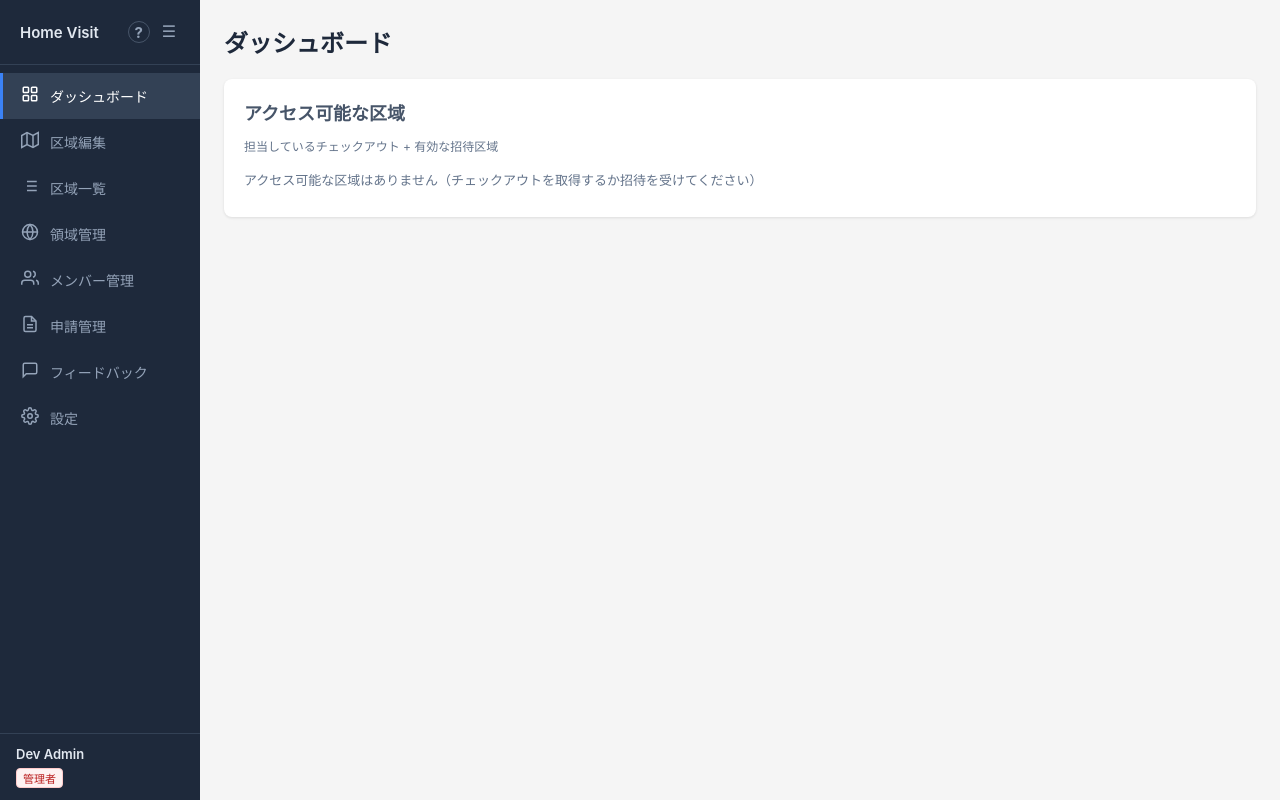
Test case: App › 設定画面に使用許諾・免責事項の閲覧セクションがある
Click the link "設定": coordinates (50, 417) [21,407,78,427]
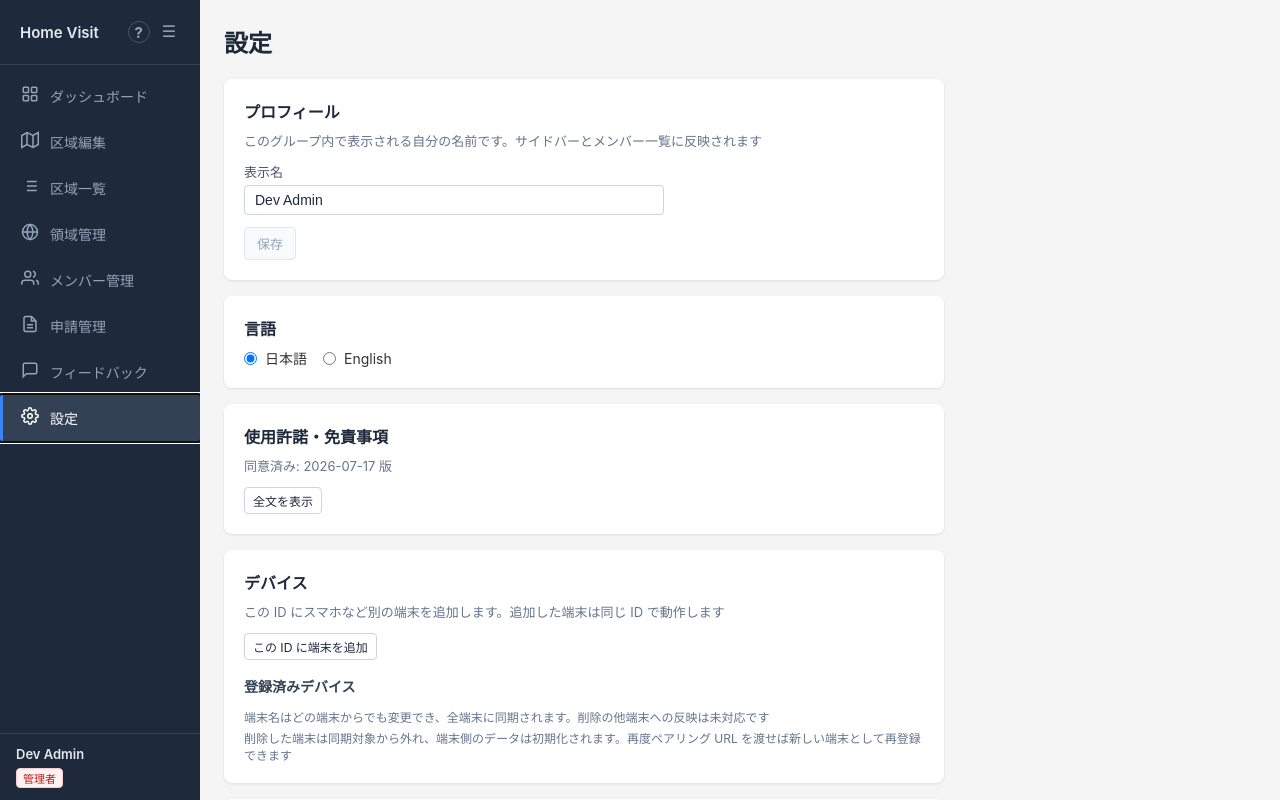
Expected: the heading "使用許諾・免責事項" is shown, [244,427,388,447]
Click the button "全文を表示": coordinates (283, 500) [244,487,322,514]
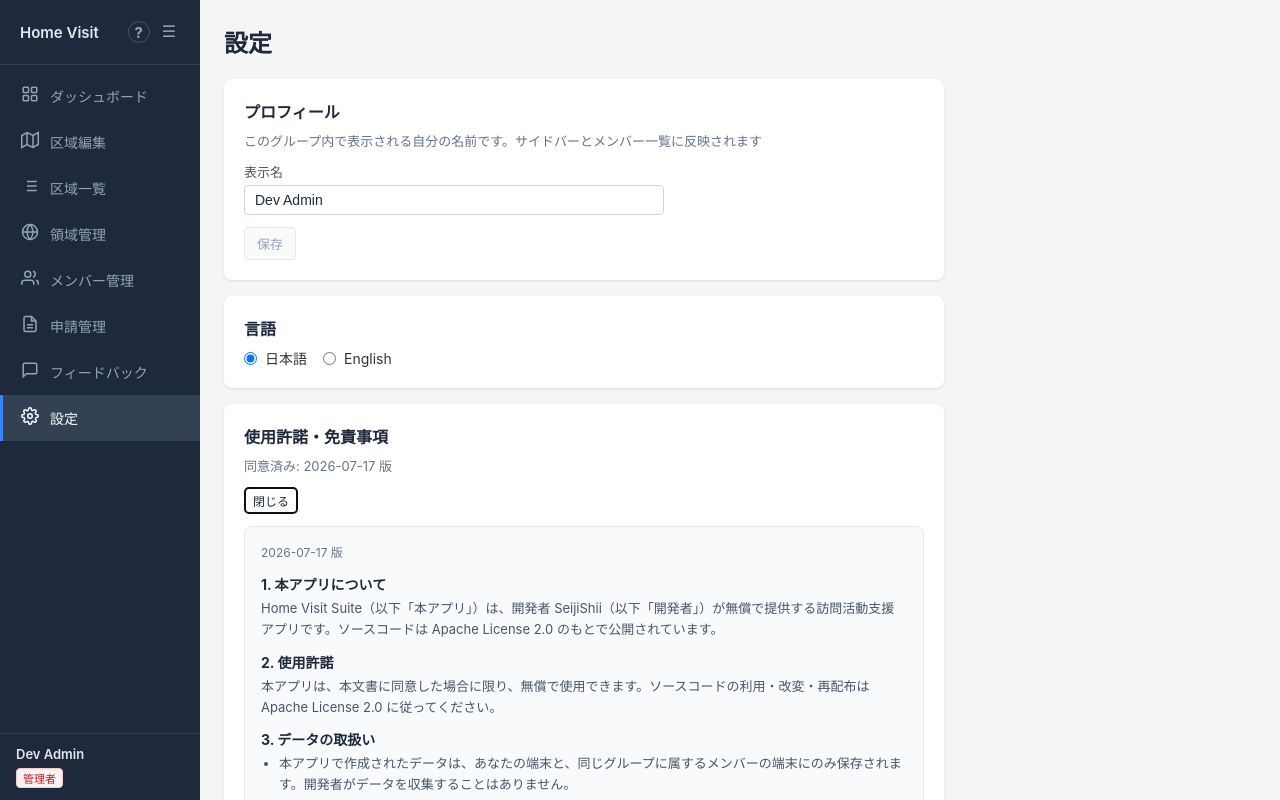
Expected: the text "SeijiShii" is shown, [261,600,894,637]
